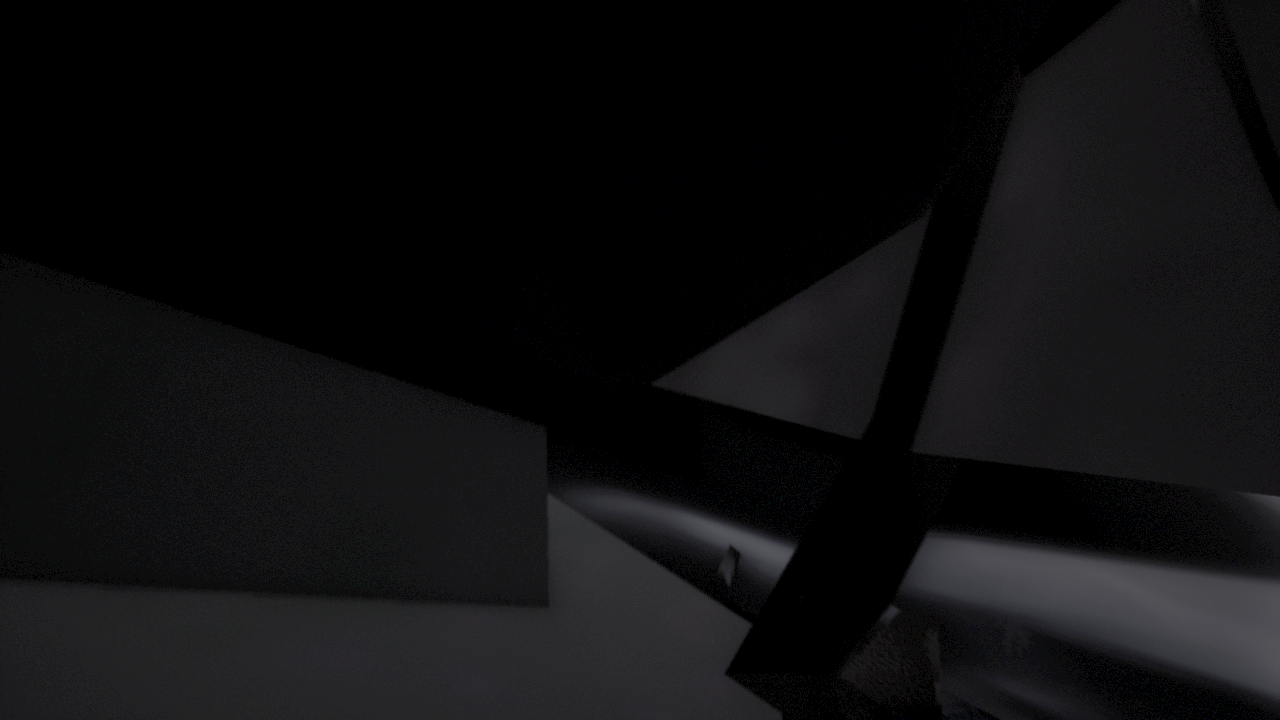cyclist: (782, 689, 1001, 719)
